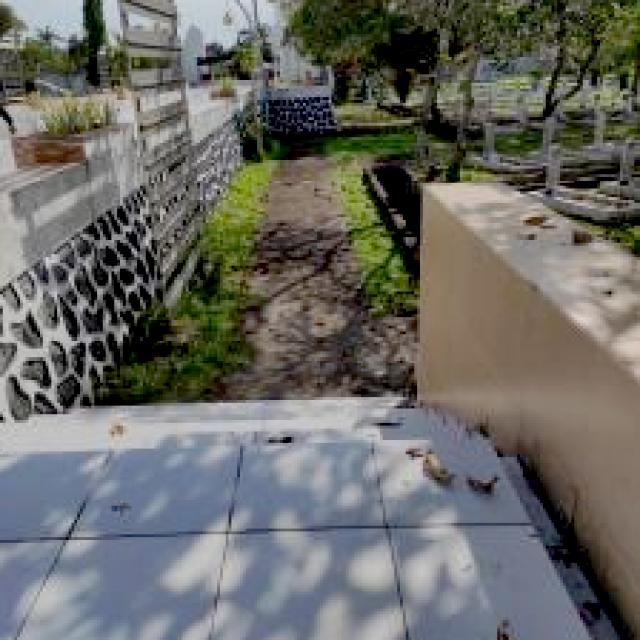downstair: (38, 392, 510, 501)
